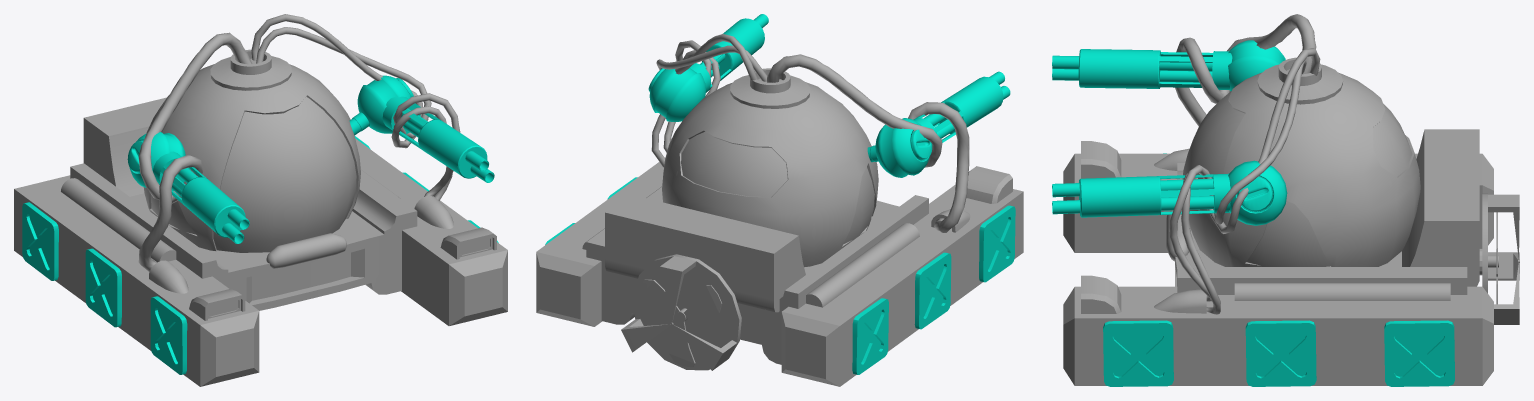
Rendered from Sottomarino_esterno.fbx.
3 views of the same model, side by side, from view 1: azimuth 30°, elevation 25°; view 2: azimuth 150°, elevation 25°; view 3: azimuth 270°, elevation 25° (orthographic). The views are drawn at different scales.
Parts seen in each view (by area): view 1: Nave_mono_modello_Corpo, Vetro; view 2: Nave_mono_modello_Corpo, Vetro; view 3: Nave_mono_modello_Corpo, Vetro.
Boxes of the visible parts, x1,y1,x2,y2 form: Nave_mono_modello_Corpo: [14, 14, 507, 386]; Vetro: [151, 96, 356, 252]; Nave_mono_modello_Corpo: [536, 14, 1023, 386]; Vetro: [676, 131, 874, 244]; Nave_mono_modello_Corpo: [1052, 14, 1519, 386]; Vetro: [1182, 91, 1412, 266].
Size of the model in its own units: 7.94 by 6.37 by 9.21.
